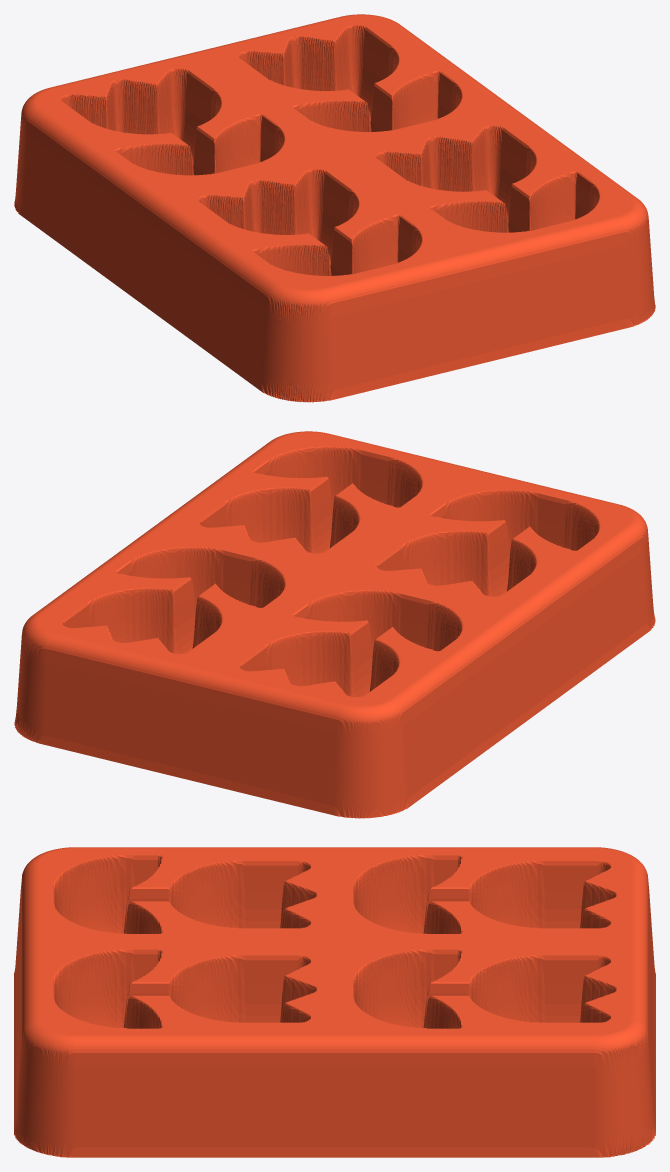
File: mold.glb
The picture shows the model from 3 angles, top to bottom: view 1: azimuth 30°, elevation 25°; view 2: azimuth 150°, elevation 25°; view 3: azimuth 270°, elevation 25°; orthographic projection. The views are drawn at different scales.
Visible parts, largest first — view 1: geometry_0; view 2: geometry_0; view 3: geometry_0.
Boxes of the visible parts, x1,y1,x2,y2 form: geometry_0: (14,14,655,402); geometry_0: (14,431,655,818); geometry_0: (14,847,655,1157).
Bounding box in the file's own units: 0.0718 × 0.0182 × 0.0942.
